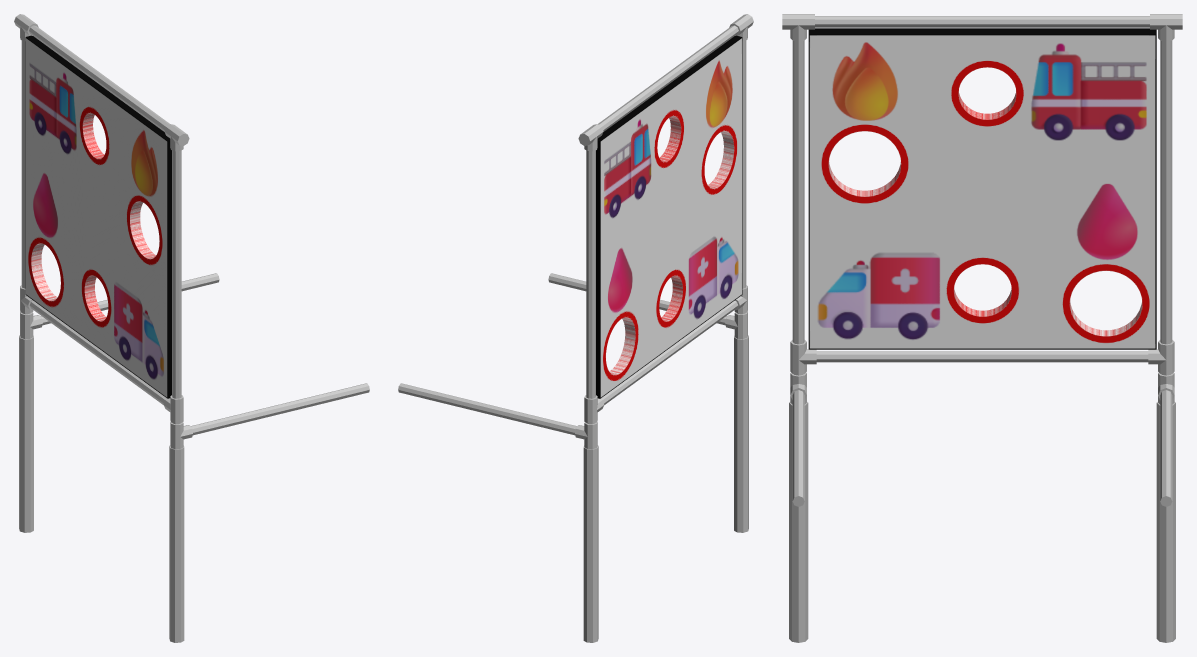
The model's file is torpedoMapping_2026_v1.obj.
3 renders of one model, left to right at view 1: azimuth 30°, elevation 25°; view 2: azimuth 150°, elevation 25°; view 3: azimuth 270°, elevation 25°, orthographic. The views are drawn at different scales.
Parts seen in each view (by area): view 1: Plane, Cylinder.006, Cylinder.005, Cylinder.003, Cylinder.015, Cylinder.001; view 2: Plane, Cylinder.006, Cylinder.003, Cylinder.005, Cylinder.001, Cylinder.015; view 3: Plane, Cylinder.006, Cylinder.005, Cylinder.003, Cylinder.015, Cylinder.001.
Part boxes in pixels (left/top/right/bottom): Plane: left=25, top=35, right=171, bottom=398; Cylinder.006: left=14, top=14, right=189, bottom=423; Cylinder.005: left=169, top=445, right=184, bottom=642; Cylinder.003: left=19, top=335, right=33, bottom=532; Cylinder.015: left=170, top=383, right=369, bottom=449; Cylinder.001: left=20, top=273, right=219, bottom=339; Plane: left=596, top=35, right=742, bottom=398; Cylinder.006: left=578, top=14, right=753, bottom=423; Cylinder.003: left=583, top=445, right=598, bottom=642; Cylinder.005: left=734, top=335, right=748, bottom=532; Cylinder.001: left=398, top=383, right=597, bottom=449; Cylinder.015: left=548, top=273, right=747, bottom=339; Plane: left=808, top=28, right=1156, bottom=349; Cylinder.006: left=782, top=14, right=1182, bottom=374; Cylinder.005: left=789, top=402, right=808, bottom=642; Cylinder.003: left=1156, top=402, right=1175, bottom=642; Cylinder.015: left=790, top=372, right=806, bottom=506; Cylinder.001: left=1158, top=372, right=1174, bottom=506.
Bounding box in the file's own units: 0.4882 × 1.21 × 0.7017.
Materials: 3 (1 with a texture image).
